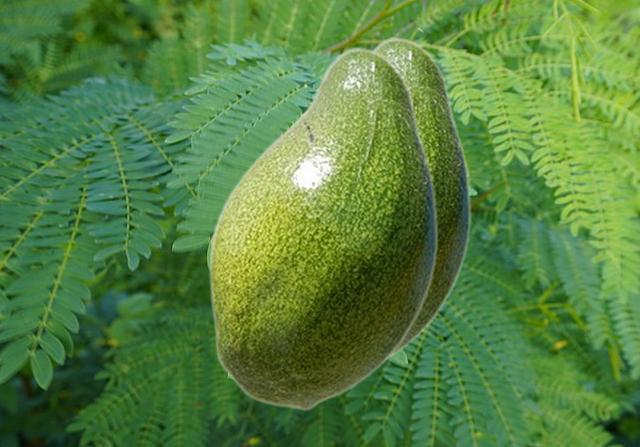avocado: (208, 46, 438, 410), (373, 36, 471, 363)
